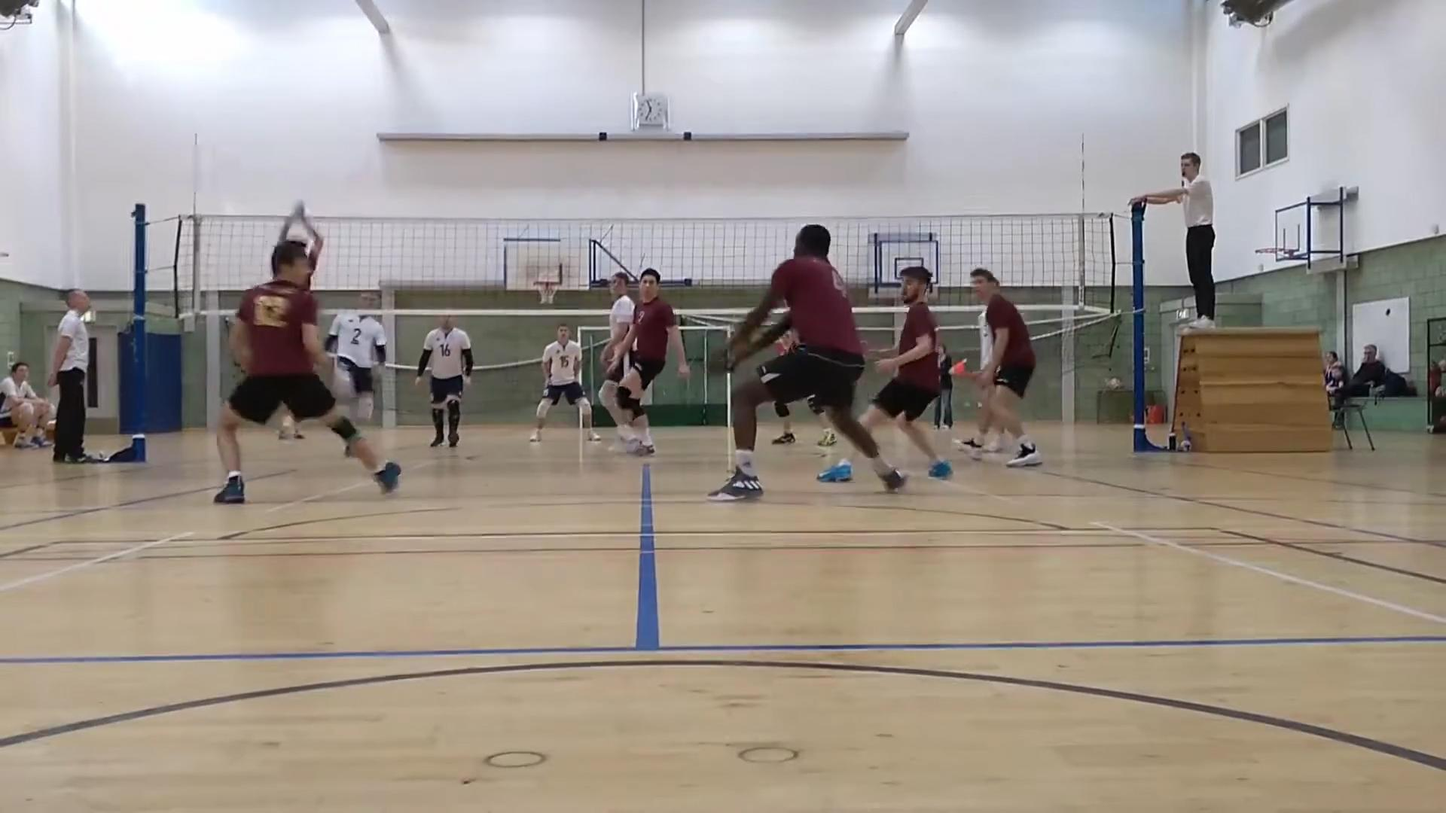Dig: (695, 222, 910, 504)
Player: (215, 240, 400, 503), (860, 266, 951, 478), (610, 268, 690, 455), (970, 268, 1041, 466), (530, 324, 600, 442), (326, 292, 386, 420), (416, 315, 473, 447), (599, 271, 635, 446), (956, 376, 1003, 454), (278, 201, 324, 273), (806, 396, 835, 446)
